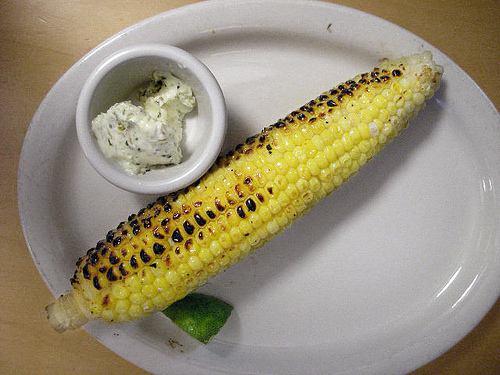corn: (42, 47, 444, 336)
